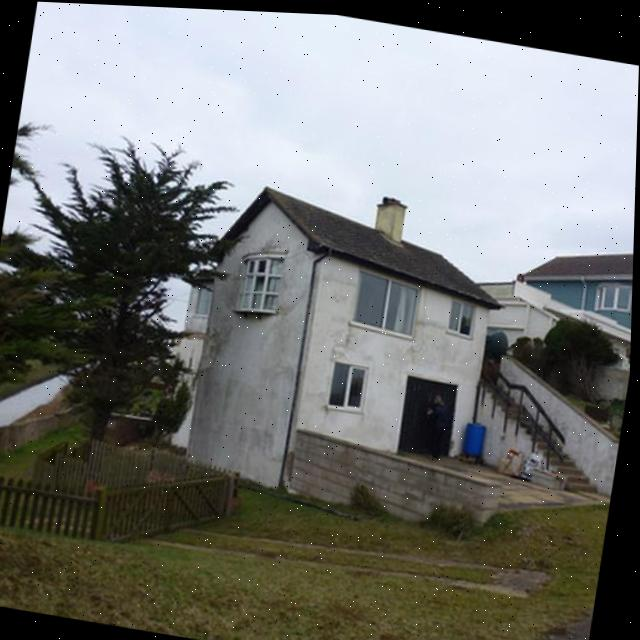building: (176, 163, 508, 523), (498, 230, 634, 389)
